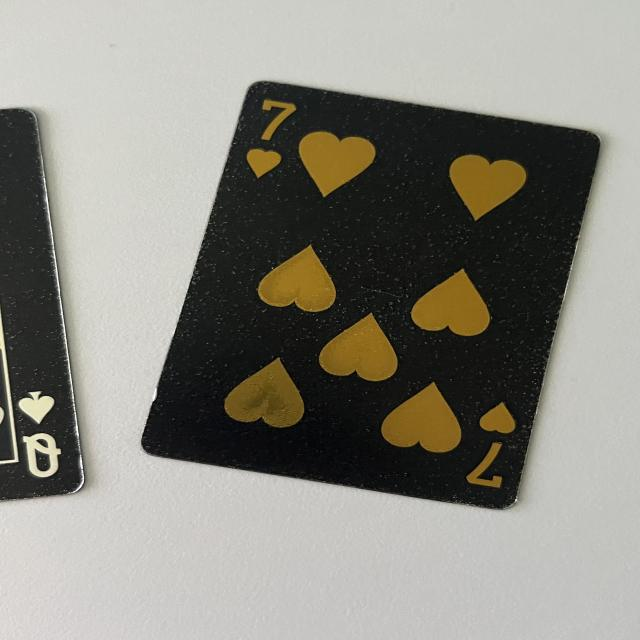7H: (457, 402, 527, 494), (237, 86, 301, 182)
QS: (3, 388, 69, 476)
